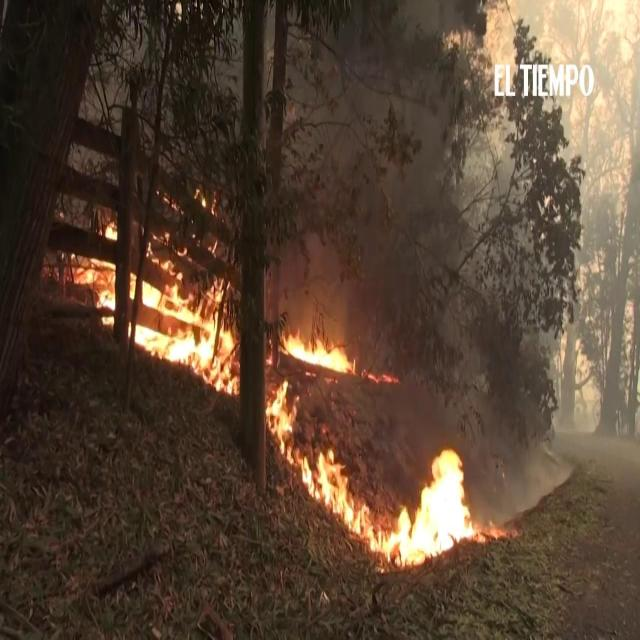Fire: (309, 445, 473, 569), (132, 249, 242, 390), (285, 325, 355, 375), (71, 259, 116, 328), (267, 379, 301, 465), (366, 366, 400, 385), (105, 224, 116, 240)
